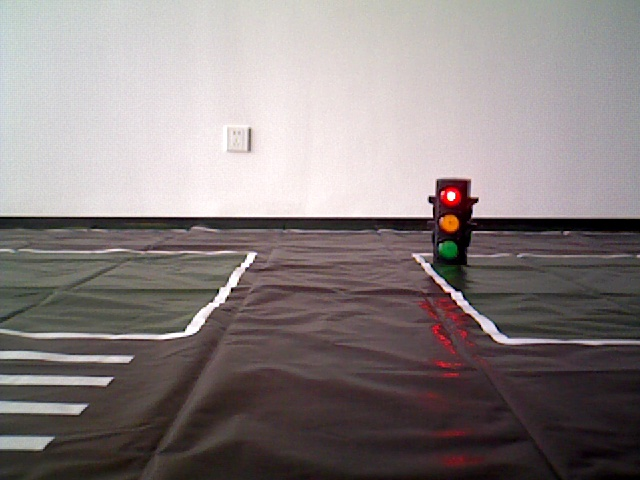red: (434, 182, 464, 261)
